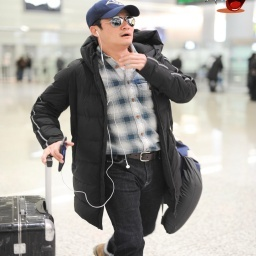noWear: (88, 14, 135, 47)
